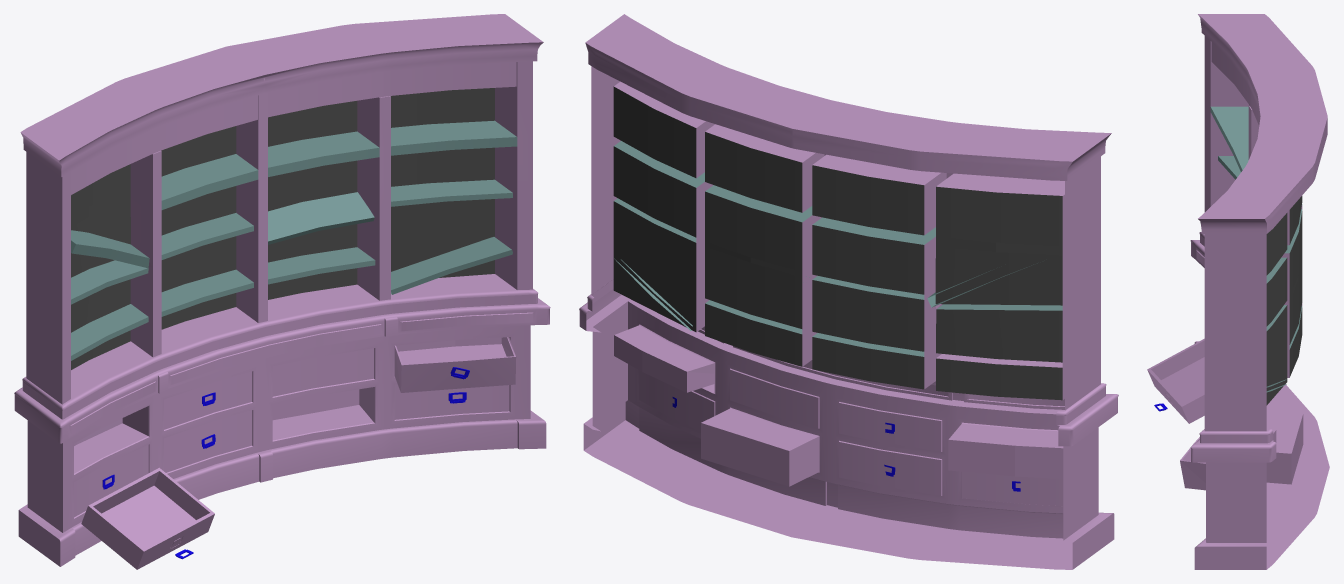
File: N_BibliothèqueBreak.fbx
The picture shows the model from 3 angles, left to right: view 1: azimuth 30°, elevation 25°; view 2: azimuth 150°, elevation 25°; view 3: azimuth 270°, elevation 25°; orthographic projection. The views are drawn at different scales.
Visible parts, largest first — view 1: Box001; view 2: Box001; view 3: Box001.
Boxes of the visible parts, left/top/right/bottom form: Box001: left=14, top=14, right=550, bottom=569; Box001: left=579, top=14, right=1118, bottom=569; Box001: left=1147, top=14, right=1329, bottom=569.
Size of the model in its own units: 319 by 252 by 119.
